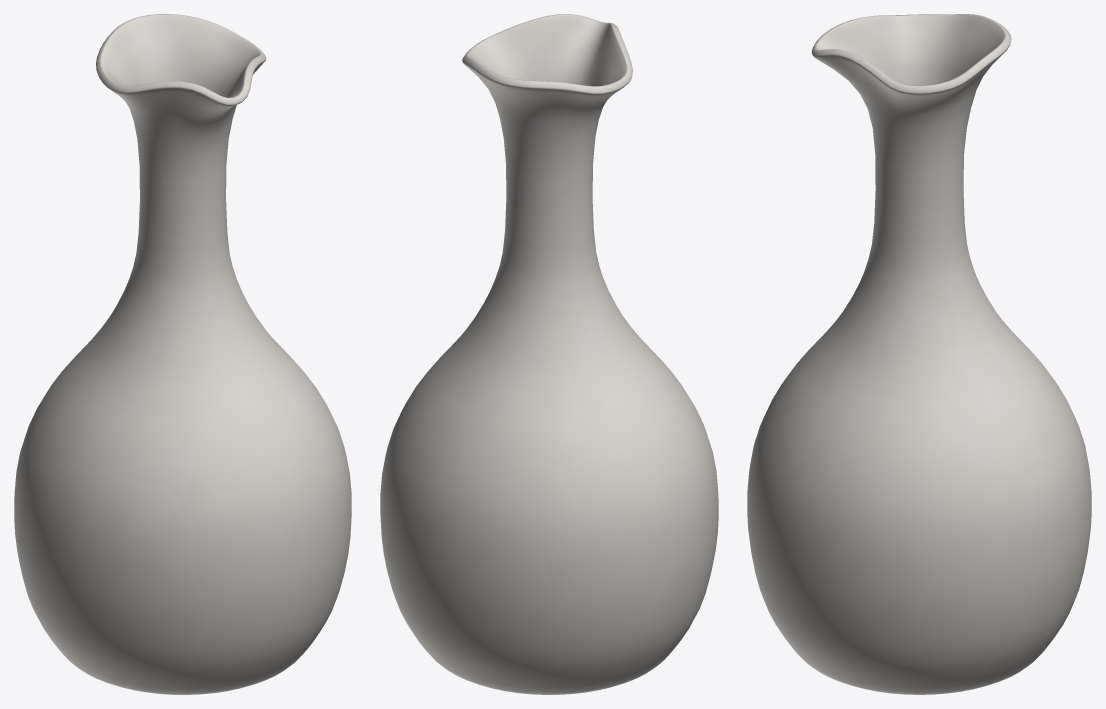
The model's file is ceramic_vase_01.glb.
The picture shows the model from 3 angles, left to right: view 1: azimuth 30°, elevation 25°; view 2: azimuth 150°, elevation 25°; view 3: azimuth 270°, elevation 25°; orthographic projection. The views are drawn at different scales.
Parts seen in each view (by area): view 1: ceramic_vase_01; view 2: ceramic_vase_01; view 3: ceramic_vase_01.
Boxes of the visible parts, box(x1,y1,x2,y2) form: ceramic_vase_01: box(14, 14, 351, 694); ceramic_vase_01: box(380, 14, 718, 694); ceramic_vase_01: box(747, 14, 1091, 694).
Size of the model in its own units: 0.2036 by 0.4003 by 0.2036.
1 material, 1 textured.
